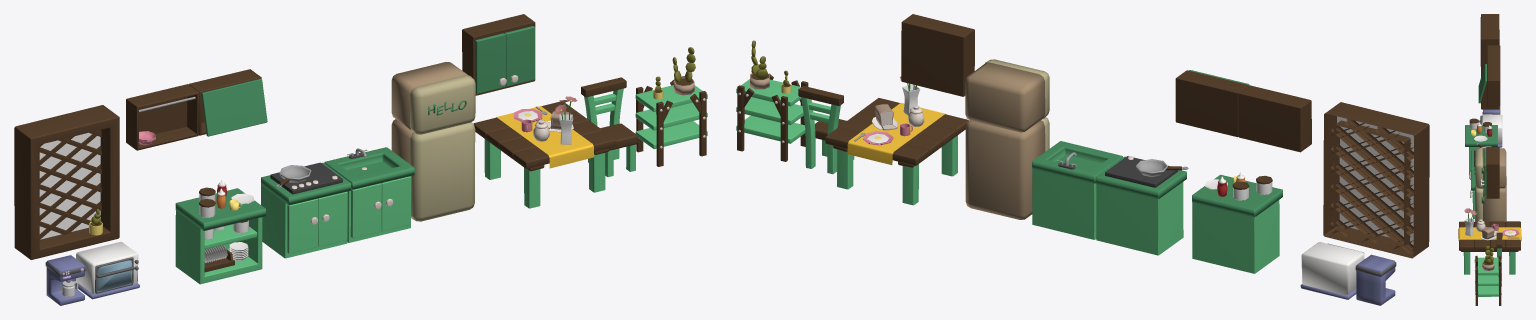
File: Kitchen.fbx
3 views of the same model, side by side, from view 1: azimuth 30°, elevation 25°; view 2: azimuth 150°, elevation 25°; view 3: azimuth 270°, elevation 25° (orthographic). The views are drawn at different scales.
Parts seen in each view (by area): view 1: Window, Fridge, Cupboard_01, Kitchen_Table, Slab _03, Slab _01, Slab _02, Cupboard_02, Kitchen_Rack, Oven, Chair, Coffee_machine (+4 smaller); view 2: Window, Fridge, Cupboard_01, Kitchen_Table, Slab _03, Slab _02, Slab _01, Cupboard_02, Kitchen_Rack, Oven, Chair, Coffee_machine (+4 smaller); view 3: Kitchen_Table, Fridge, Cupboard_01, Kitchen_Rack, Window, Cupboard_02, Slab _03, Oven, Pot_01, Vase, Slab _01, Chair (+8 smaller).
Boxes of the visible parts, x1=… form: Window: x1=14, y1=105, x2=119, y2=259; Fridge: x1=391, y1=62, x2=475, y2=221; Cupboard_01: x1=126, y1=69, x2=267, y2=150; Kitchen_Table: x1=473, y1=101, x2=616, y2=208; Slab _03: x1=175, y1=188, x2=265, y2=284; Slab _01: x1=324, y1=147, x2=414, y2=242; Slab _02: x1=261, y1=162, x2=351, y2=258; Cupboard_02: x1=462, y1=14, x2=535, y2=95; Kitchen_Rack: x1=635, y1=76, x2=707, y2=166; Oven: x1=76, y1=242, x2=139, y2=299; Chair: x1=581, y1=77, x2=637, y2=177; Coffee_machine: x1=45, y1=255, x2=85, y2=305; Window: x1=1323, y1=102, x2=1429, y2=258; Fridge: x1=965, y1=59, x2=1049, y2=219; Cupboard_01: x1=1175, y1=70, x2=1311, y2=152; Kitchen_Table: x1=825, y1=98, x2=968, y2=205; Slab _03: x1=1192, y1=174, x2=1282, y2=273; Slab _02: x1=1096, y1=156, x2=1186, y2=255; Slab _01: x1=1032, y1=141, x2=1122, y2=239; Cupboard_02: x1=901, y1=14, x2=974, y2=96; Kitchen_Rack: x1=736, y1=73, x2=808, y2=161; Oven: x1=1300, y1=242, x2=1364, y2=299; Chair: x1=798, y1=86, x2=854, y2=174; Coffee_machine: x1=1355, y1=254, x2=1396, y2=305; Kitchen_Table: x1=1458, y1=221, x2=1521, y2=274; Fridge: x1=1474, y1=148, x2=1506, y2=221; Cupboard_01: x1=1478, y1=45, x2=1500, y2=105; Kitchen_Rack: x1=1474, y1=255, x2=1501, y2=305; Window: x1=1480, y1=14, x2=1499, y2=109; Cupboard_02: x1=1480, y1=147, x2=1499, y2=198; Slab _03: x1=1465, y1=125, x2=1497, y2=178; Oven: x1=1478, y1=114, x2=1502, y2=147; Pot_01: x1=1482, y1=245, x2=1494, y2=270; Vase: x1=1464, y1=208, x2=1476, y2=236; Slab _01: x1=1470, y1=168, x2=1475, y2=221; Chair: x1=1496, y1=232, x2=1502, y2=286.
Size of the model in its own units: 1099 by 277 by 154.
